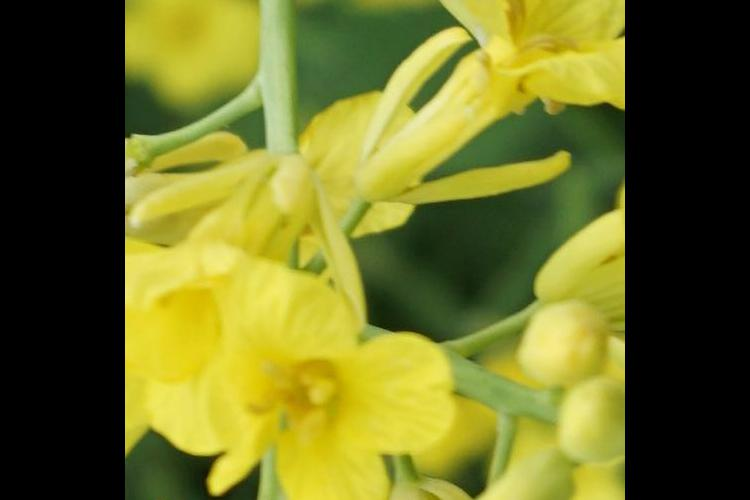bud: (544, 382, 621, 478), (526, 296, 601, 391), (469, 450, 572, 500)
yellow: (370, 1, 615, 208), (208, 282, 433, 500), (134, 133, 278, 410)
